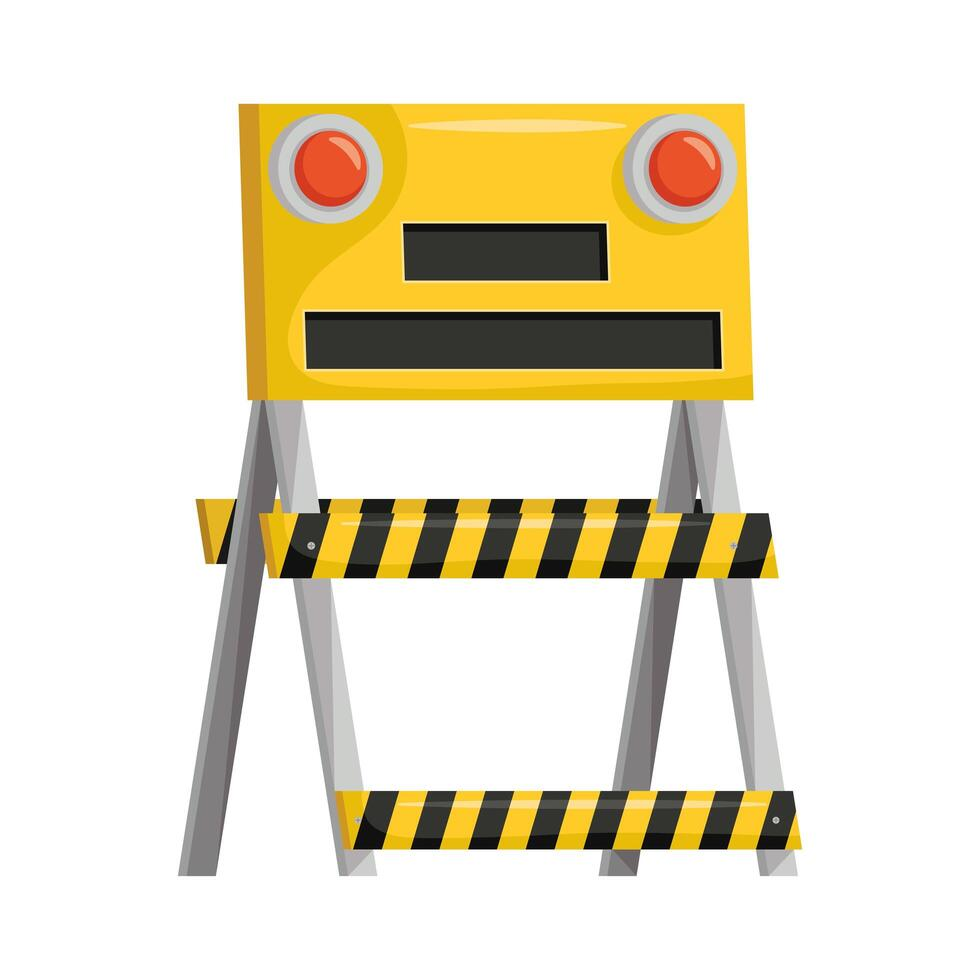Barrier: (128, 72, 876, 904)
